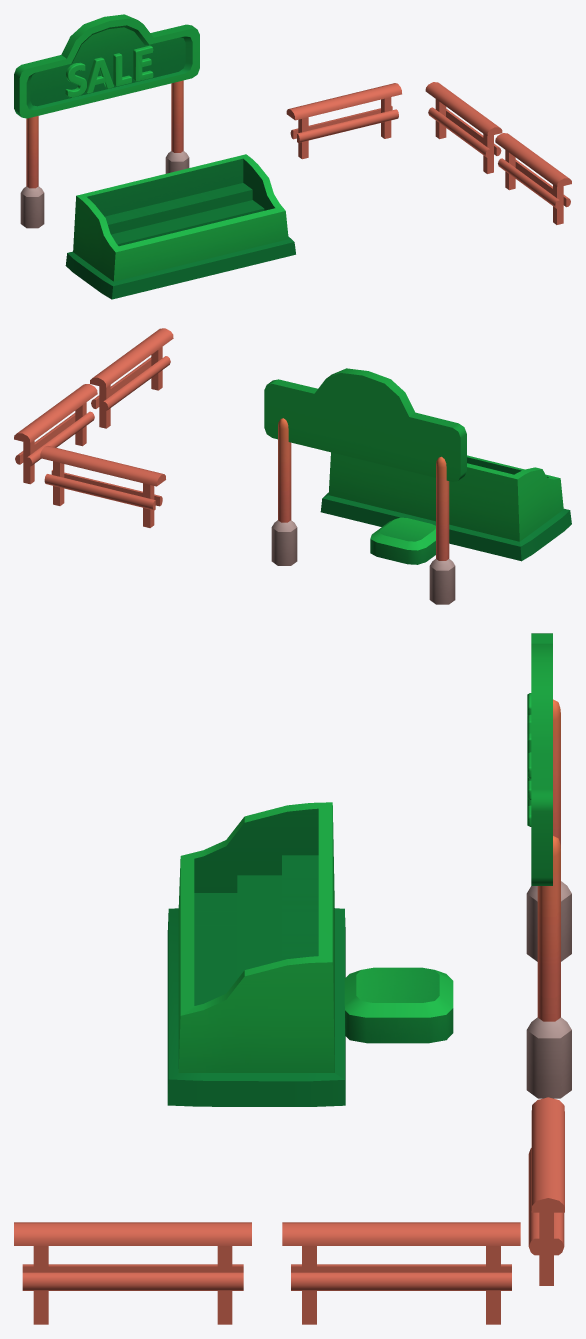
Rendered from TradeStation.fbx.
3 views of the same model, one above another, from view 1: azimuth 30°, elevation 25°; view 2: azimuth 150°, elevation 25°; view 3: azimuth 270°, elevation 25° (orthographic). The views are drawn at different scales.
Visible parts, largest first — view 1: Cube.223, Cube.030, Hayat.005, Hayat.004, Hayat.001; view 2: Cube.030, Cube.223, Hayat.005, Hayat.001, Hayat.004, Cube.032; view 3: Cube.223, Cube.030, Hayat.001, Hayat.004, Cube.032, Hayat.005.
Boxes of the visible parts, box(x1,y1,x2,y2) form: Cube.223: box(65, 154, 295, 299); Cube.030: box(14, 14, 199, 228); Hayat.005: box(286, 83, 401, 159); Hayat.004: box(425, 82, 502, 173); Hayat.001: box(495, 133, 571, 224); Cube.030: box(264, 368, 466, 604); Cube.223: box(320, 452, 571, 561); Hayat.005: box(40, 446, 165, 527); Hayat.001: box(90, 328, 173, 428); Hayat.004: box(14, 384, 97, 484); Cube.032: box(370, 517, 435, 564); Cube.223: box(167, 802, 345, 1106); Cube.030: box(526, 633, 571, 1098); Hayat.001: box(14, 1222, 251, 1324); Hayat.004: box(282, 1222, 520, 1324); Cube.032: box(344, 967, 453, 1043); Hayat.005: box(528, 1097, 564, 1285).
Bounding box in the file's own units: 2.43 × 1.04 × 1.44.
